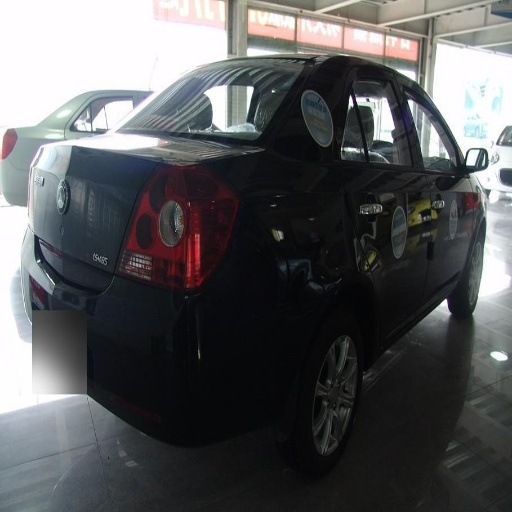back_bumper: (27, 237, 308, 448)
back_right_door: (337, 75, 429, 331)
trunk: (31, 140, 204, 265)
